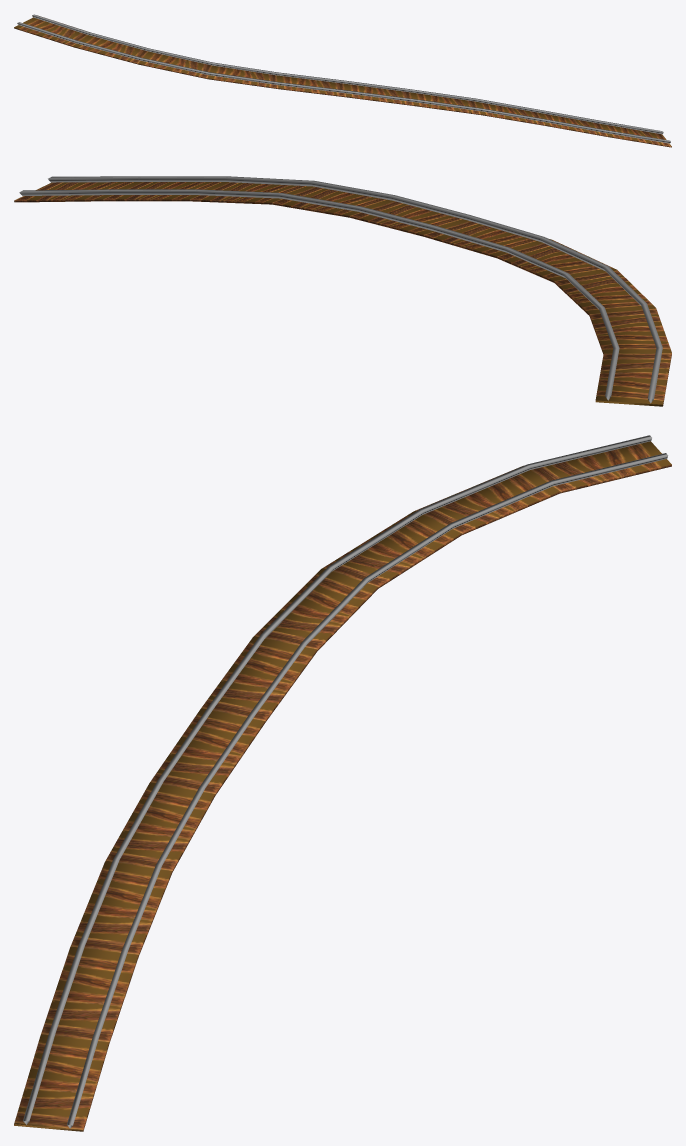
The model's file is SWORDLIGHT20_TRACK2.fbx.
3 renders of one model, top to bottom at view 1: azimuth 30°, elevation 25°; view 2: azimuth 150°, elevation 25°; view 3: azimuth 270°, elevation 25°, orthographic. The views are drawn at different scales.
Parts seen in each view (by area): view 1: SWORDLIGHT20_TRACK2; view 2: SWORDLIGHT20_TRACK2; view 3: SWORDLIGHT20_TRACK2.
Part boxes in pixels (x1,y1,x2,y2): SWORDLIGHT20_TRACK2: [14, 14, 671, 147]; SWORDLIGHT20_TRACK2: [14, 176, 671, 406]; SWORDLIGHT20_TRACK2: [14, 435, 671, 1131].
Bounding box in the file's own units: 253107 × 59188 × 150823.
2 materials, 2 textured.
